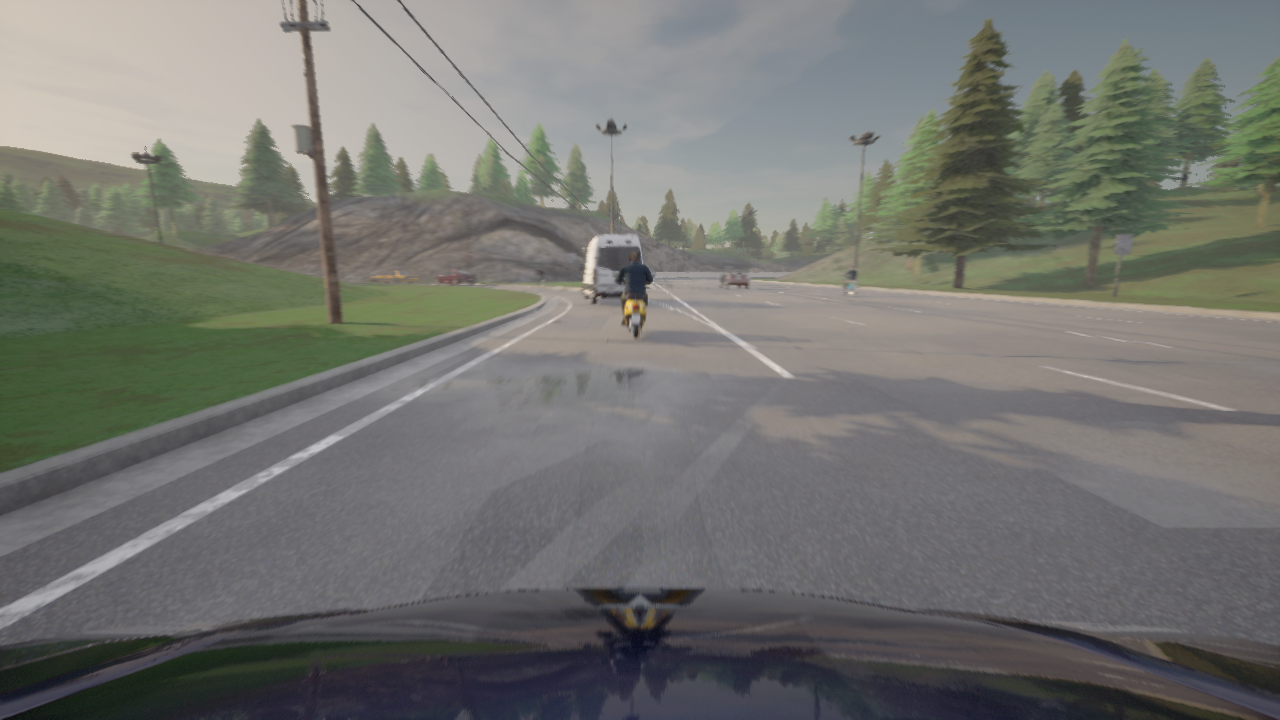cyclist: (0, 588, 1279, 719), (580, 235, 643, 304), (612, 271, 655, 338), (368, 269, 418, 283), (434, 269, 476, 285), (719, 267, 749, 289), (841, 272, 859, 297), (537, 274, 544, 287)
